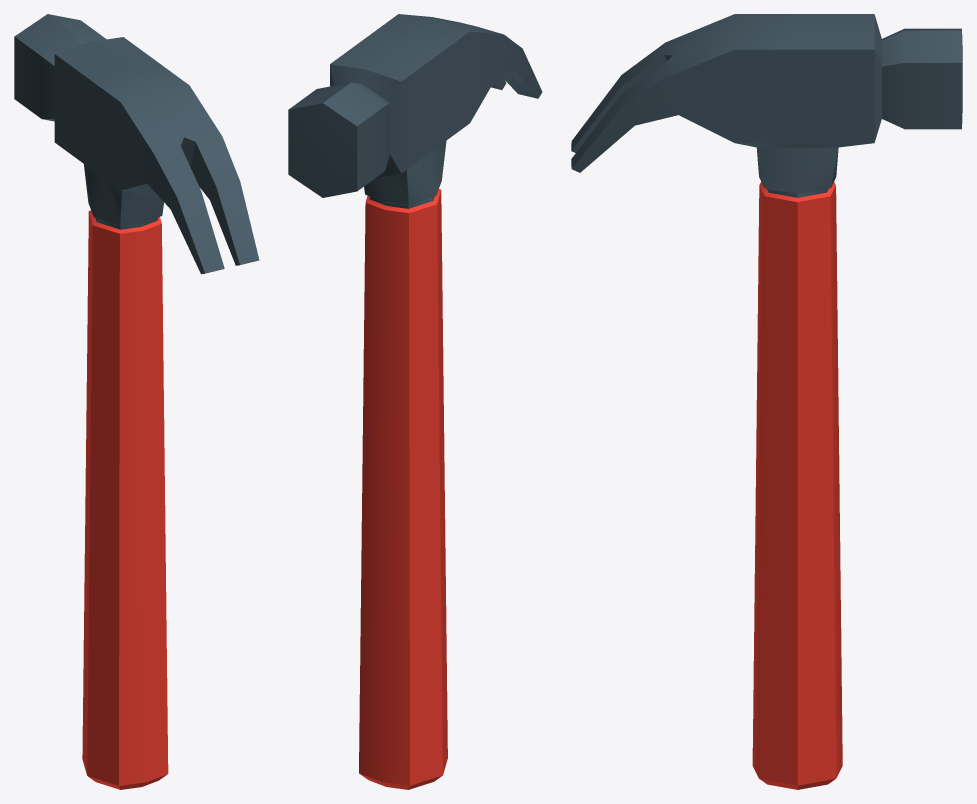
File: prop-hammer.glb
3 views of the same model, side by side, from view 1: azimuth 30°, elevation 25°; view 2: azimuth 150°, elevation 25°; view 3: azimuth 270°, elevation 25° (orthographic). The views are drawn at different scales.
Visible parts, largest first — view 1: Hammer_Circle.027; view 2: Hammer_Circle.027; view 3: Hammer_Circle.027.
Boxes of the visible parts, x1,y1,x2,y2 form: Hammer_Circle.027: (14, 14, 259, 789); Hammer_Circle.027: (288, 14, 542, 789); Hammer_Circle.027: (571, 14, 962, 789).
Bounding box in the file's own units: 1.15 × 10.17 × 4.83.
